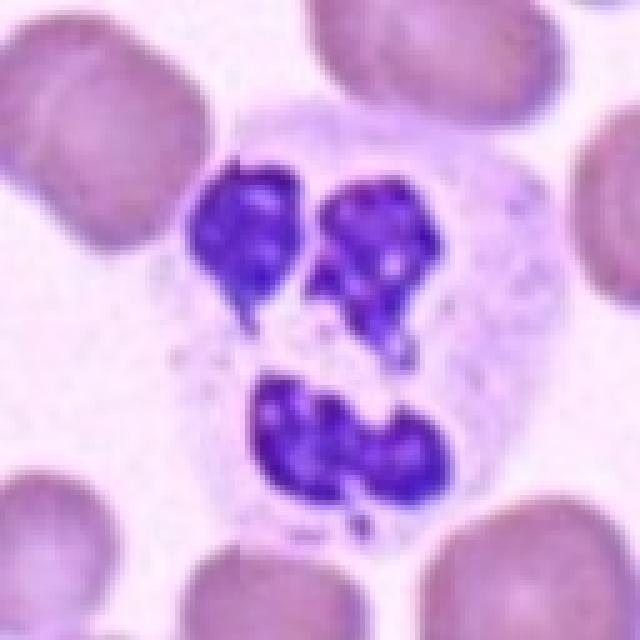neutro: (80, 120, 567, 560)
